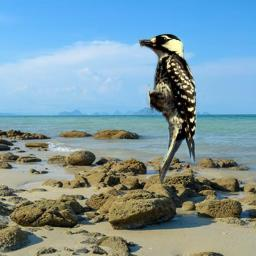Woodpecker: (136, 33, 200, 185)
